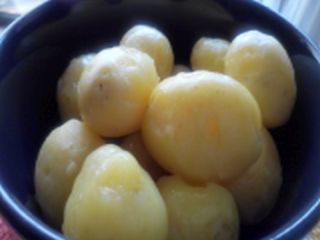boiled potatoes: (50, 24, 306, 231)
